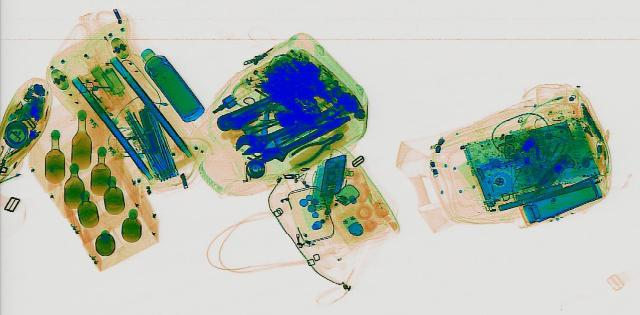Pliers: (277, 128, 351, 165)
Wrench: (220, 102, 350, 157), (247, 111, 361, 166)
